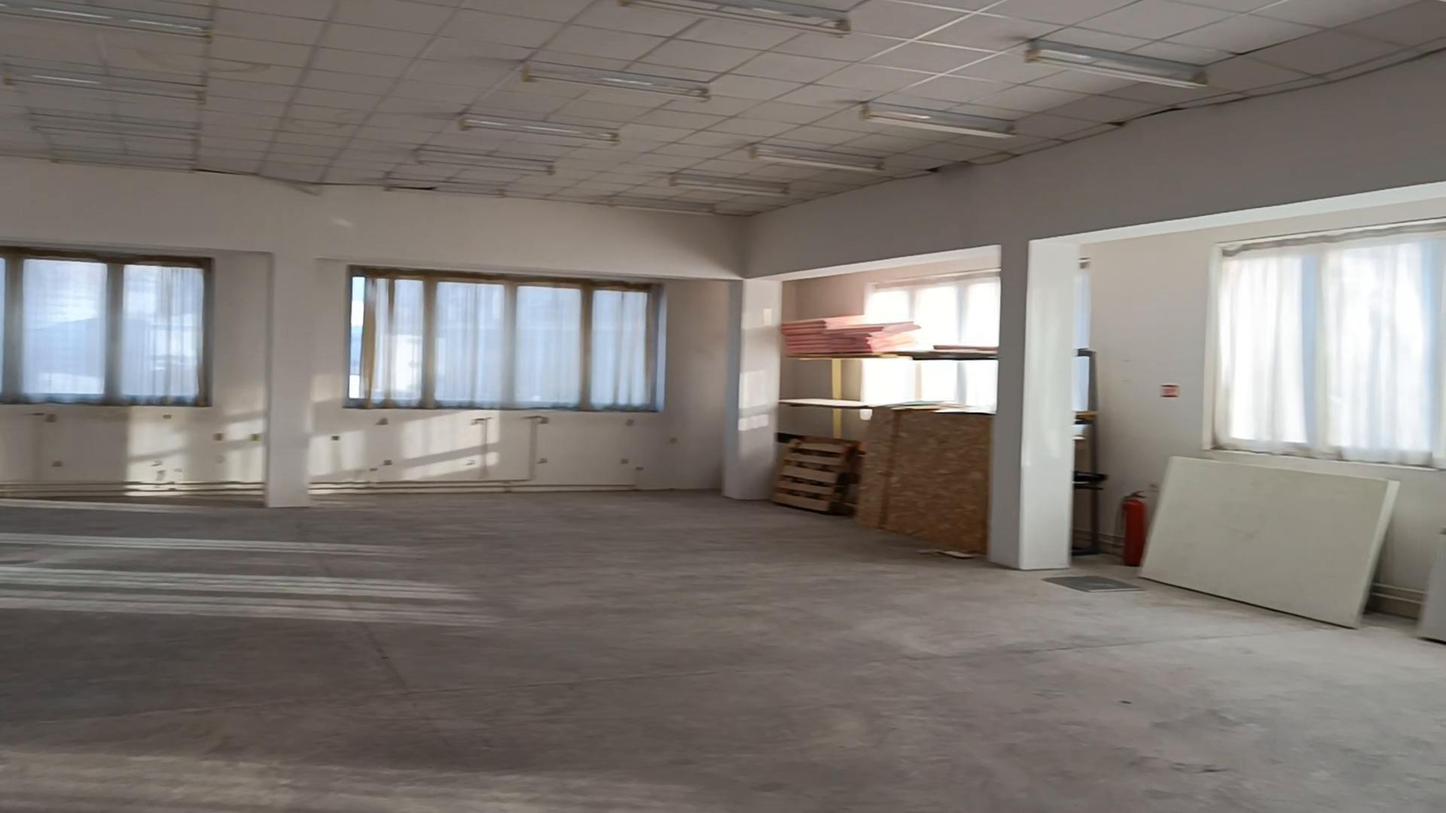ceiling: (0, 0, 1445, 215)
floor: (0, 493, 1445, 812)
pillar: (987, 239, 1080, 570)
